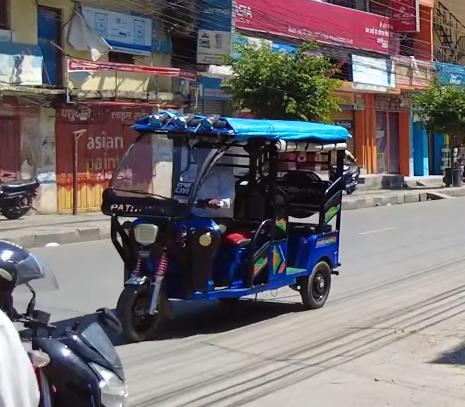e-rickshaw: (104, 111, 364, 336)
